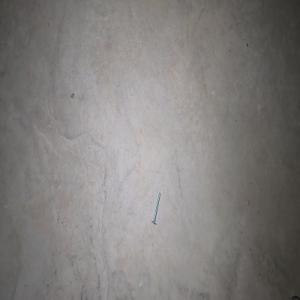Bolt: (151, 191, 160, 225)
